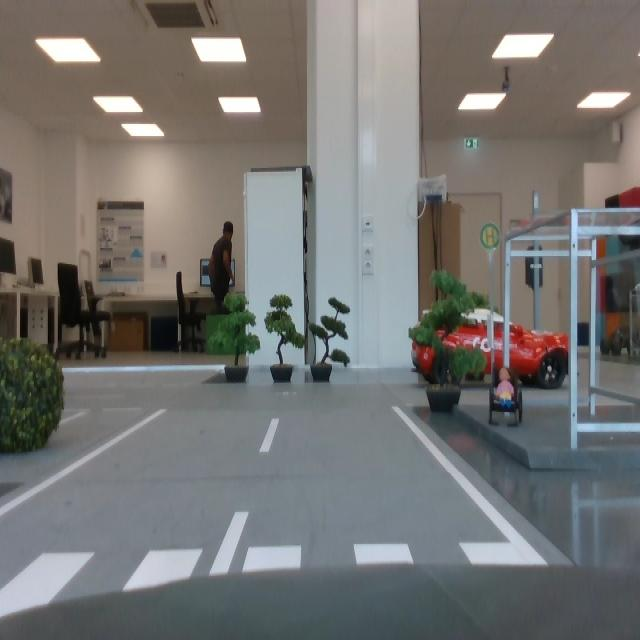car: (411, 308, 571, 390), (600, 326, 640, 358)
person: (495, 367, 515, 410)
potted plant: (410, 270, 486, 414), (1, 336, 65, 453), (206, 292, 261, 382), (264, 293, 306, 382), (308, 297, 351, 382)
traffic light: (527, 246, 544, 289)
